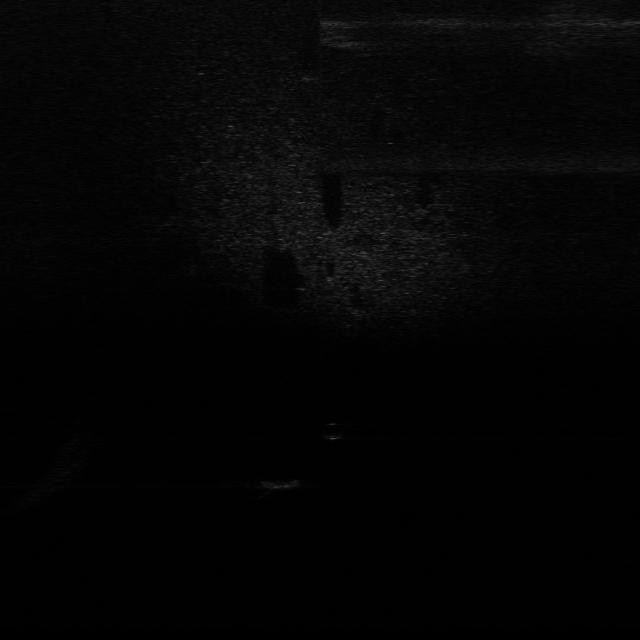ball: (318, 420, 346, 440)
square cage: (260, 475, 310, 491)
